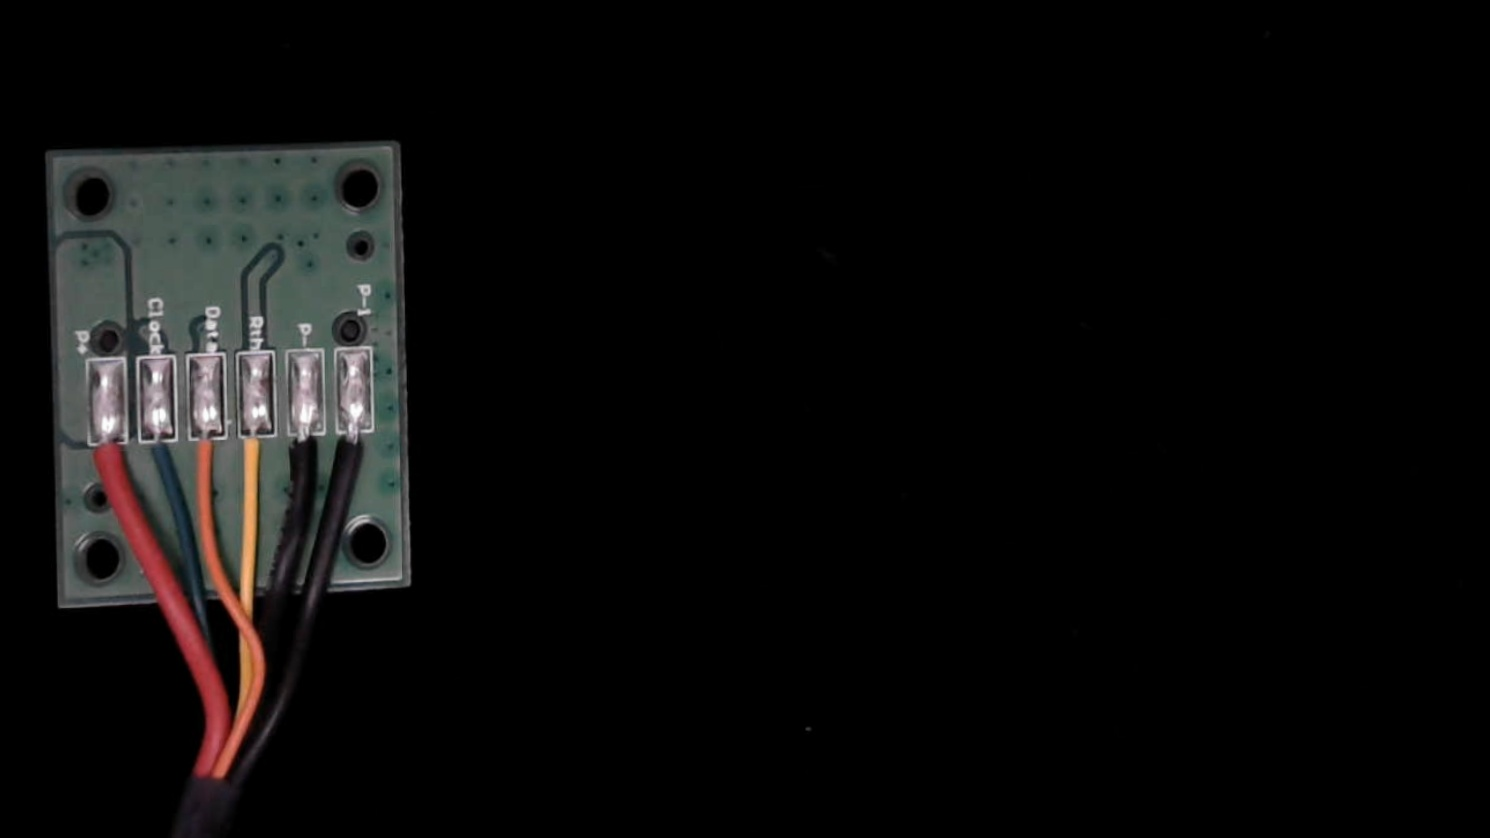Black: (284, 414, 323, 499)
Black1: (335, 412, 376, 503)
Green: (134, 416, 178, 512)
Orange: (185, 415, 226, 514)
Red: (87, 417, 131, 513)
Yellow: (234, 413, 278, 514)
